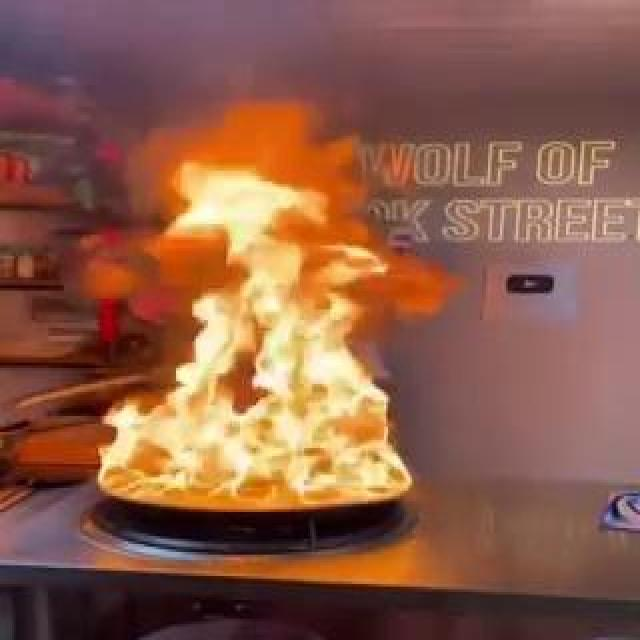Fire: (240, 336, 358, 362)
